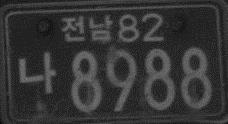2: (142, 12, 164, 43)
8: (179, 46, 212, 110), (70, 50, 103, 113), (144, 48, 176, 112), (118, 13, 140, 44)
9: (105, 49, 137, 114)
나: (17, 48, 55, 94)
전남_O: (60, 13, 113, 42)
